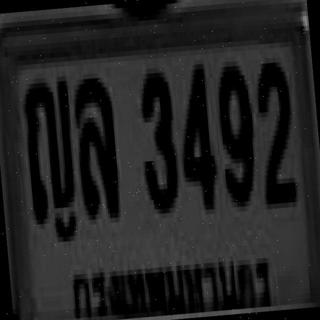A13: (20, 74, 77, 222)
A36: (70, 72, 119, 216)
N02: (251, 54, 295, 202)
N03: (134, 67, 178, 210)
N04: (173, 59, 217, 206)
N09: (214, 60, 257, 203)
P04: (58, 237, 282, 320)
